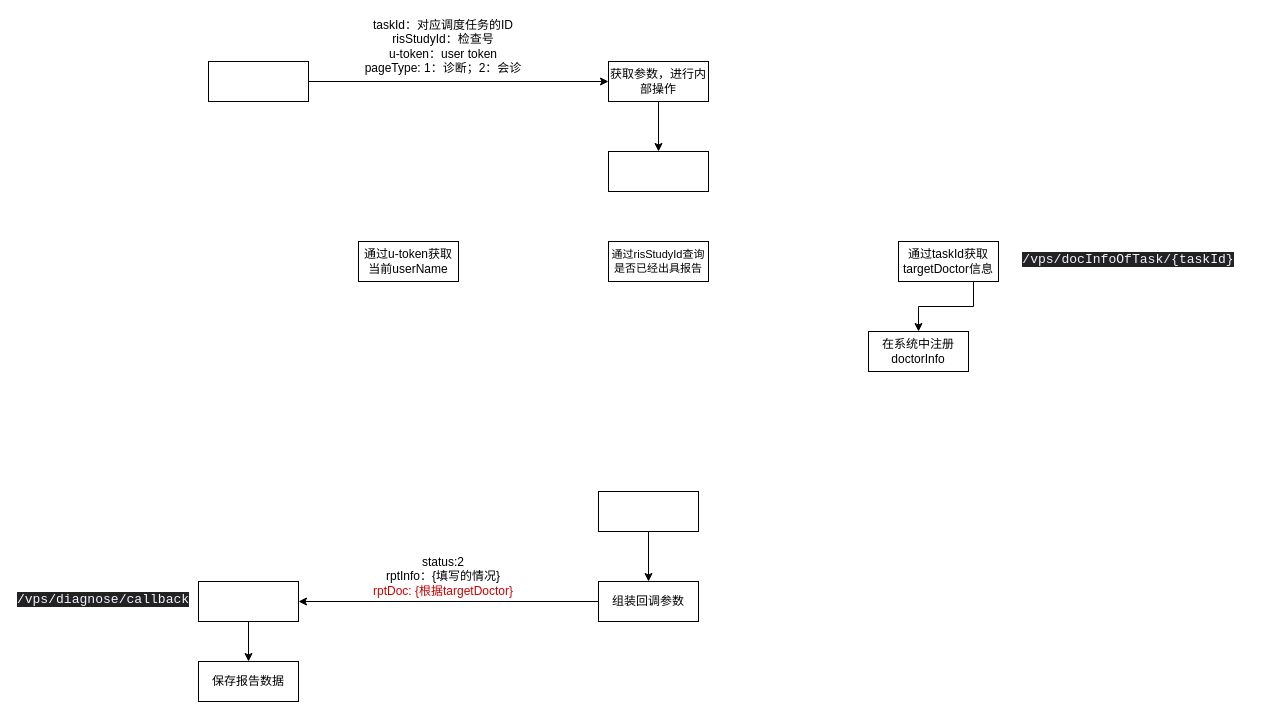
The diagram is 1265 pixels wide and 719 high, and some of its shapes have lost their labels. The box of each missing label's shape, as (x1, y1, x2, y2) in pixels:
回调函数: (198, 580, 298, 622)
报告签名 （userName）: (598, 490, 698, 532)
根据pageType判断当前业务类型: (608, 150, 708, 192)
进入诊断: (208, 60, 308, 102)
